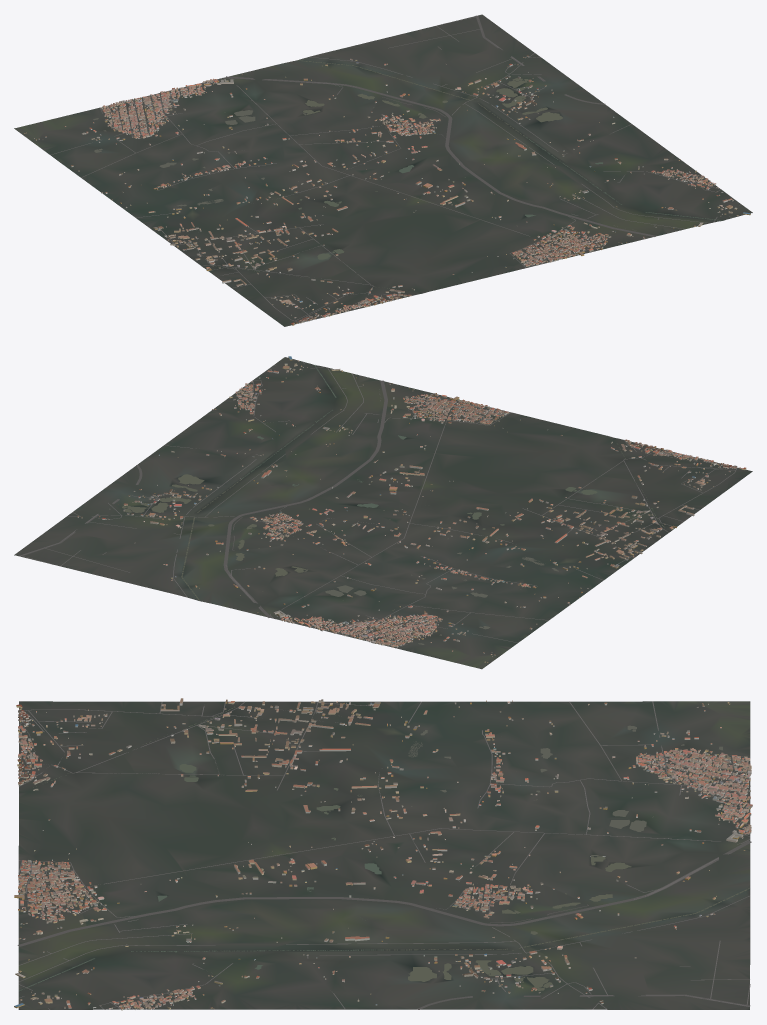
3 views of the same model, one above another, from view 1: azimuth 30°, elevation 25°; view 2: azimuth 150°, elevation 25°; view 3: azimuth 270°, elevation 25° (orthographic). The views are drawn at different scales.
Parts seen in each view (by area): view 1: ground, buildings, roads, water; view 2: ground, buildings, roads, water; view 3: ground, buildings, roads, water.
Boxes of the visible parts, x1,y1,x2,y2 form: ground: [14, 14, 752, 326]; buildings: [23, 55, 750, 325]; roads: [50, 15, 741, 322]; water: [93, 60, 723, 290]; ground: [14, 357, 752, 669]; buildings: [77, 356, 746, 662]; roads: [19, 361, 737, 648]; water: [122, 365, 664, 644]; ground: [18, 701, 750, 1009]; buildings: [14, 698, 752, 1010]; roads: [17, 701, 751, 1009]; water: [19, 706, 749, 991].
Size of the model in its own units: 2817 by 18.33 by 2833.
